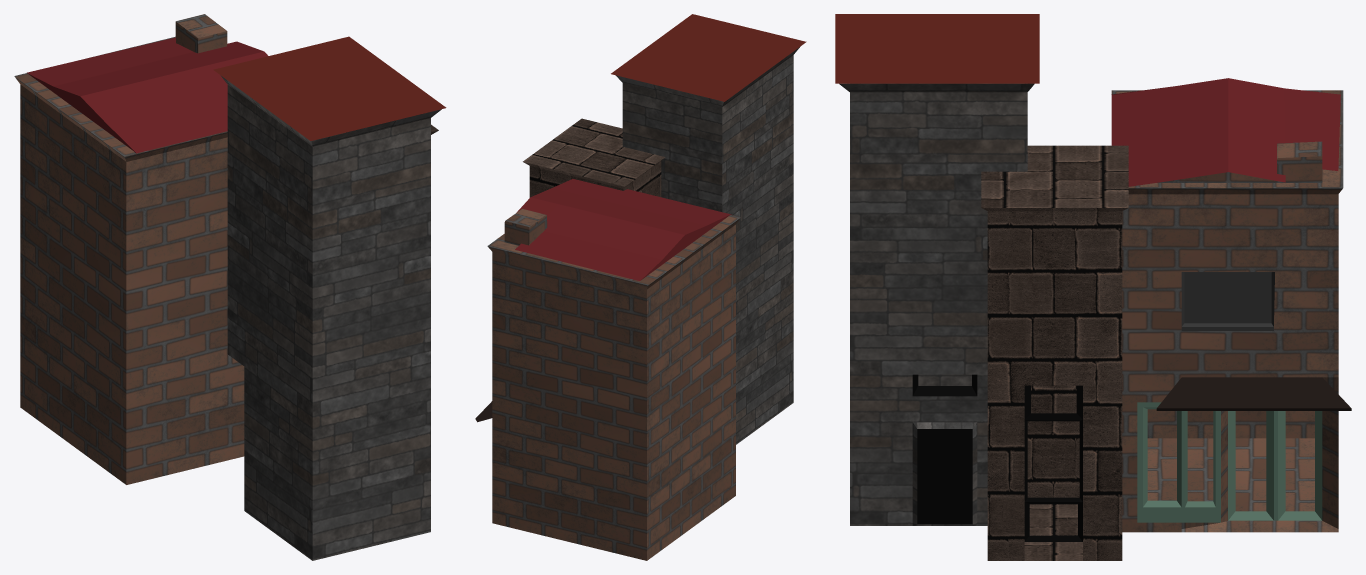
The model's file is BUILDINGSNEW.glb.
3 views of the same model, side by side, from view 1: azimuth 30°, elevation 25°; view 2: azimuth 150°, elevation 25°; view 3: azimuth 270°, elevation 25° (orthographic). The views are drawn at different scales.
Parts seen in each view (by area): view 1: Cube.001, Cube; view 2: Cube, Cube.001, Cube.002; view 3: Cube, Cube.001, Cube.002, Cube.010.
Part boxes in pixels (x1=…): Cube.001: x1=213, y1=36, x2=446, y2=560; Cube: x1=14, y1=14, x2=268, y2=484; Cube: x1=475, y1=179, x2=740, y2=560; Cube.001: x1=611, y1=14, x2=806, y2=444; Cube.002: x1=523, y1=118, x2=665, y2=197; Cube: x1=1111, y1=78, x2=1351, y2=532; Cube.001: x1=835, y1=14, x2=1039, y2=525; Cube.002: x1=981, y1=145, x2=1128, y2=560; Cube.010: x1=1024, y1=385, x2=1082, y2=541.
Size of the model in its own units: 5.36 by 8.74 by 9.09.
11 materials, 3 textured.
